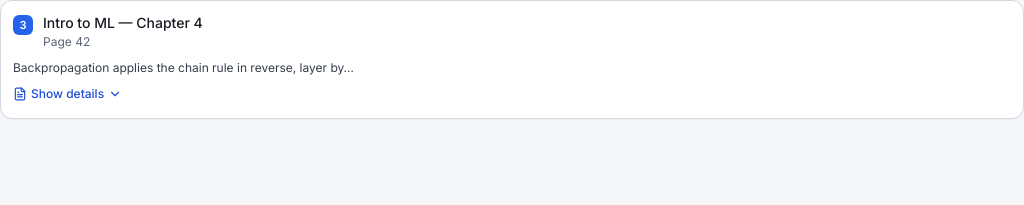
CitationCard › expands to show the full excerpt and relevance score
expect the text "Relevance" is not shown: met
Click the button "Show details": (68, 94) [13,86,122,102]
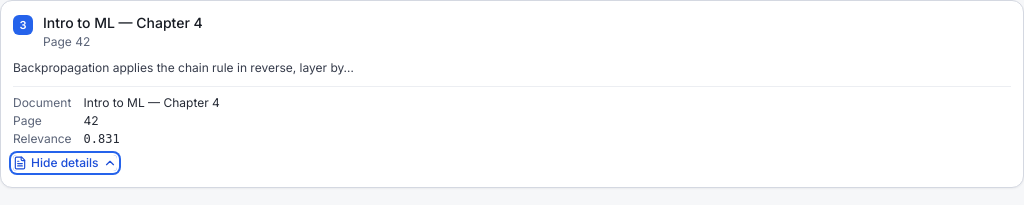
expect the button named "show details" is expanded: met, box [13,155,117,171]
expect the text "Relevance" is shown: met, box [13,131,72,147]
expect the text "0.831" is shown: met, box [84,132,120,146]
